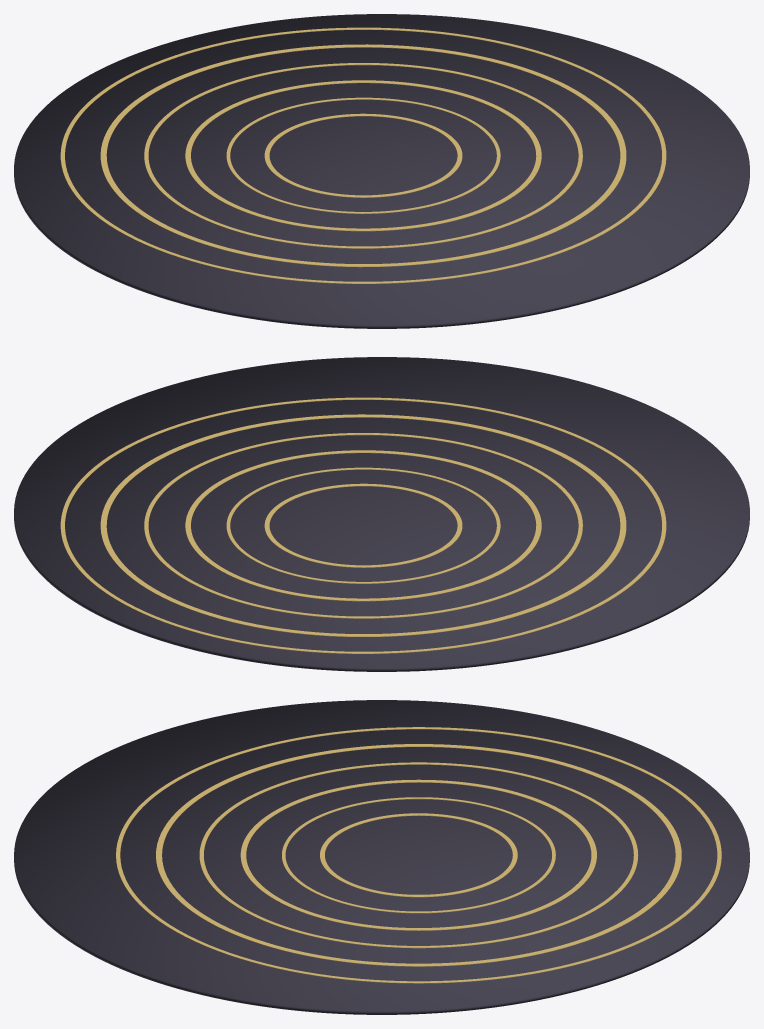
File: SM_Stage_Floor.fbx
The picture shows the model from 3 angles, top to bottom: view 1: azimuth 30°, elevation 25°; view 2: azimuth 150°, elevation 25°; view 3: azimuth 270°, elevation 25°; orthographic projection.
Visible parts, largest first — view 1: Floor_Disc, Floor_Rings; view 2: Floor_Disc, Floor_Rings; view 3: Floor_Disc, Floor_Rings.
Boxes of the visible parts, left/top/right/bottom form: Floor_Disc: left=14, top=14, right=749, bottom=328; Floor_Rings: left=60, top=27, right=666, bottom=283; Floor_Disc: left=14, top=357, right=749, bottom=671; Floor_Rings: left=60, top=397, right=666, bottom=653; Floor_Disc: left=14, top=700, right=749, bottom=1014; Floor_Rings: left=116, top=727, right=721, bottom=983.
Size of the model in its own units: 2396 by 15.6 by 2396.
